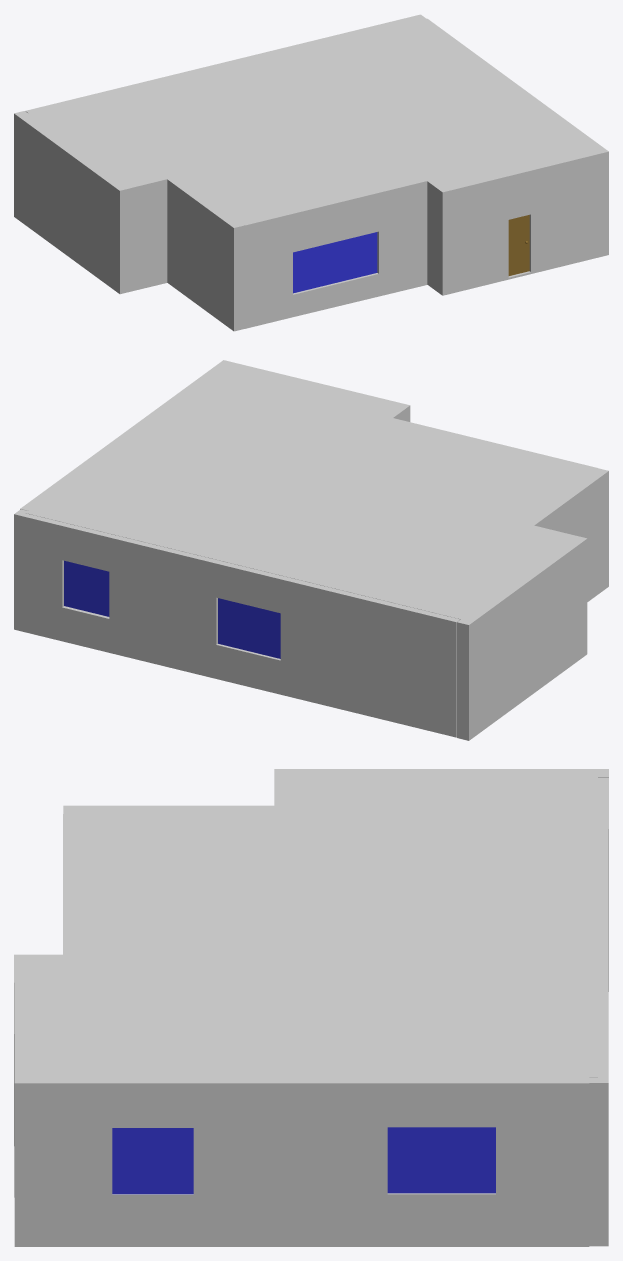
The model's file is трепхата.fbx.
3 views of the same model, one above another, from view 1: azimuth 30°, elevation 25°; view 2: azimuth 150°, elevation 25°; view 3: azimuth 270°, elevation 25° (orthographic). The views are drawn at different scales.
Parts seen in each view (by area): view 1: Plane.025, Cube.017, Cube.018, Cube.009, Cube.016, Cube.014, Cube.028, Cube.015, Cube.011, Cube.010, Sphere.001; view 2: Plane.025, Cube.010, Cube.009, Cube.016, Cube.020, Cube.019, Cube.011, Cube.014, Cube.017, Cube.018, Cube.015; view 3: Plane.025, Cube.011, Cube.021, Cube.010, Cube.022, Cube.014, Cube.017, Cube.018, Cube.009, Cube.015, Cube.013, Cube.016 (+1 smaller).
Boxes of the visible parts, left/top/right/bottom form: Plane.025: left=18, top=18, right=591, bottom=224; Cube.017: left=244, top=176, right=427, bottom=328; Cube.018: left=447, top=150, right=598, bottom=292; Cube.009: left=14, top=111, right=130, bottom=293; Cube.016: left=167, top=179, right=244, bottom=331; Cube.014: left=130, top=89, right=515, bottom=291; Cube.028: left=293, top=232, right=377, bottom=293; Cube.015: left=368, top=136, right=453, bottom=295; Cube.011: left=420, top=18, right=608, bottom=257; Cube.010: left=25, top=14, right=426, bottom=113; Sphere.001: left=508, top=215, right=529, bottom=275; Plane.025: left=25, top=368, right=595, bottom=621; Cube.010: left=14, top=509, right=460, bottom=737; Cube.009: left=457, top=535, right=587, bottom=740; Cube.016: left=533, top=468, right=608, bottom=601; Cube.020: left=218, top=598, right=280, bottom=658; Cube.019: left=64, top=560, right=109, bottom=616; Cube.011: left=20, top=360, right=234, bottom=510; Cube.014: left=137, top=430, right=574, bottom=535; Cube.017: left=386, top=418, right=596, bottom=468; Cube.018: left=229, top=363, right=397, bottom=407; Cube.015: left=334, top=402, right=410, bottom=457; Plane.025: left=30, top=769, right=597, bottom=1077; Cube.011: left=14, top=1075, right=589, bottom=1246; Cube.021: left=387, top=1127, right=495, bottom=1193; Cube.010: left=589, top=778, right=608, bottom=1246; Cube.022: left=112, top=1128, right=193, bottom=1194; Cube.014: left=274, top=777, right=293, bottom=1074; Cube.017: left=63, top=814, right=82, bottom=954; Cube.018: left=14, top=963, right=34, bottom=1197; Cube.009: left=274, top=769, right=608, bottom=777; Cube.015: left=14, top=954, right=182, bottom=962; Cube.013: left=290, top=983, right=470, bottom=991; Cube.016: left=63, top=805, right=274, bottom=813.
Size of the model in its own units: 3616 by 883 by 2893.
